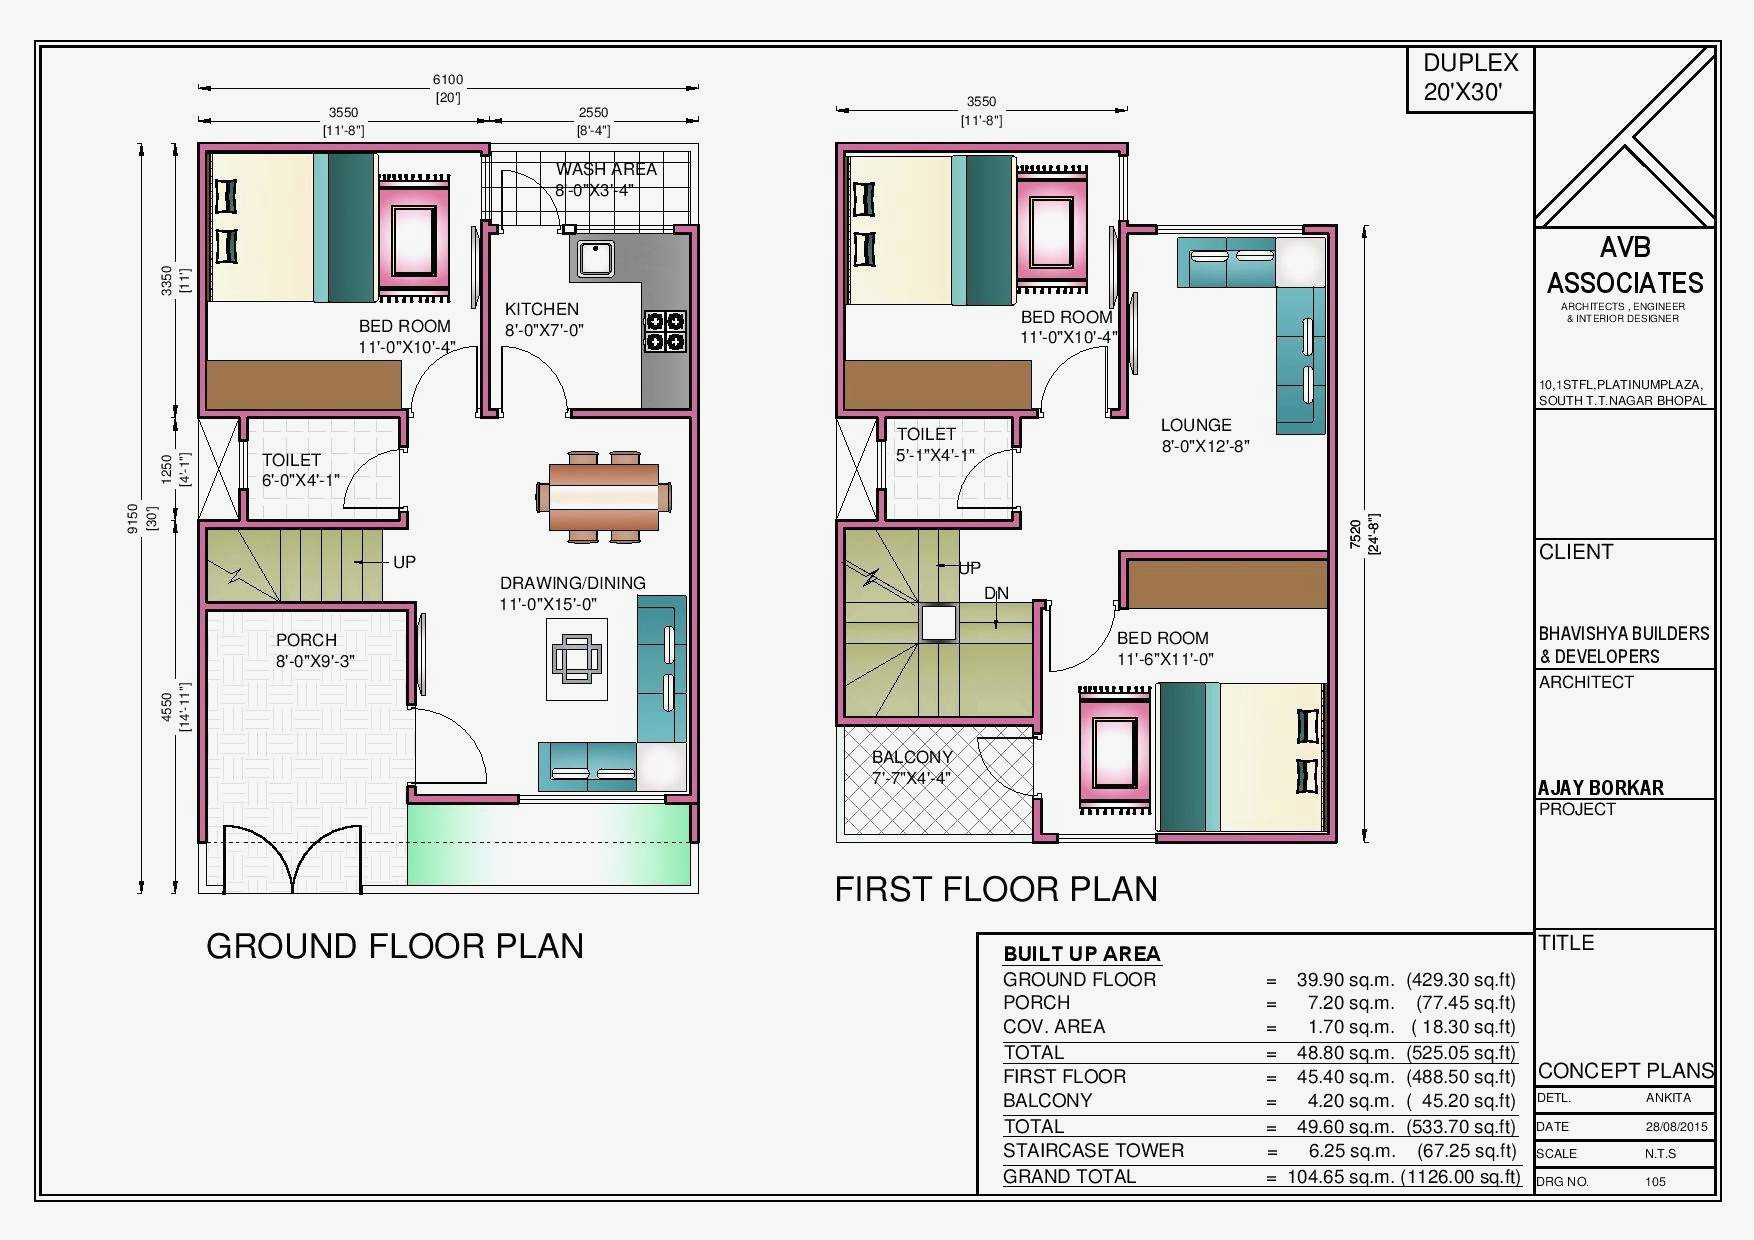door: (217, 813, 366, 888), (421, 709, 501, 786), (497, 344, 569, 409), (1039, 344, 1113, 407), (411, 344, 480, 407), (1045, 613, 1113, 674), (341, 446, 395, 513), (976, 731, 1031, 793), (956, 454, 1011, 514), (497, 168, 550, 220)
